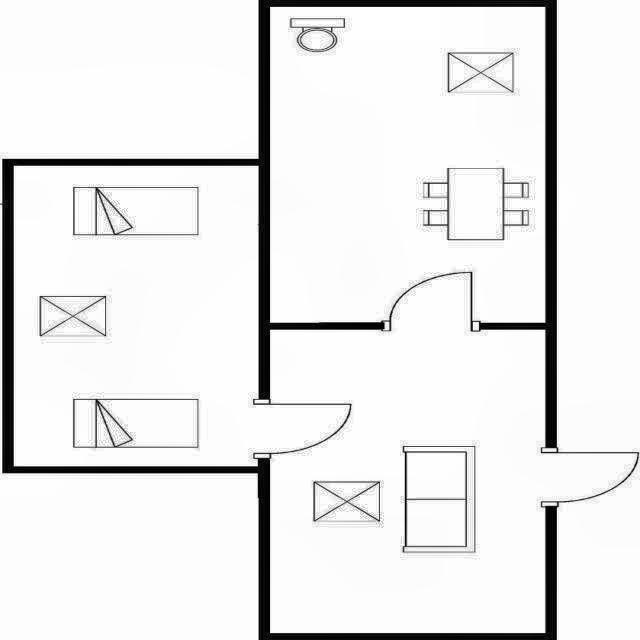room: (270, 7, 544, 323), (270, 330, 546, 633), (14, 165, 258, 466)
